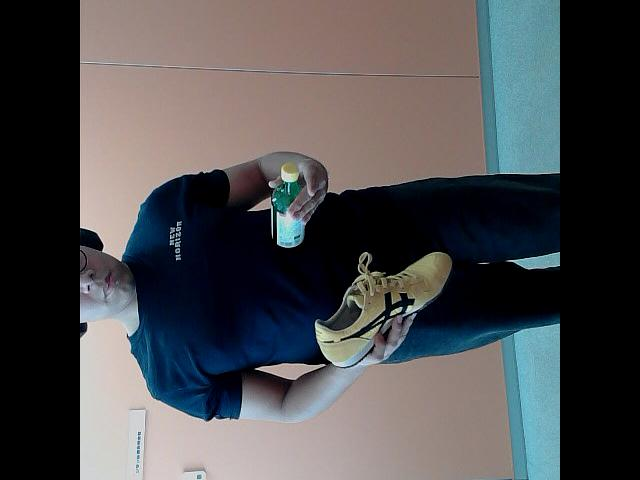Lemon_sapporo: (269, 160, 310, 248)
Shoes: (309, 250, 455, 370)
